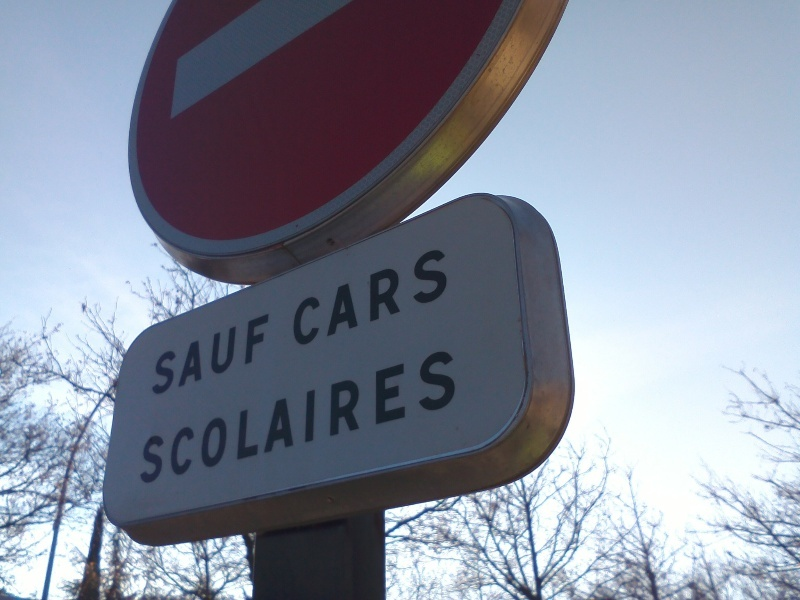text: (145, 346, 160, 487), (161, 346, 176, 487), (177, 346, 192, 487), (193, 346, 208, 487), (209, 346, 224, 487), (225, 346, 240, 487), (241, 346, 256, 487), (257, 346, 272, 487), (273, 346, 288, 487), (289, 346, 304, 487), (305, 346, 320, 487), (321, 346, 336, 487), (337, 346, 352, 487), (353, 346, 368, 487), (369, 346, 384, 487), (385, 346, 400, 487), (401, 346, 416, 487), (417, 346, 432, 487), (433, 346, 448, 487), (305, 245, 320, 351), (321, 245, 336, 351), (337, 245, 352, 351), (353, 245, 368, 351), (369, 245, 384, 351), (385, 245, 400, 351), (401, 245, 416, 351), (417, 245, 432, 351), (433, 245, 448, 351), (449, 346, 459, 487), (257, 311, 273, 399), (161, 311, 176, 399), (177, 311, 192, 399), (193, 311, 208, 399), (209, 311, 224, 399), (225, 311, 240, 399), (241, 311, 256, 399), (293, 245, 304, 351), (140, 346, 144, 487), (449, 245, 453, 351), (159, 311, 160, 399)
